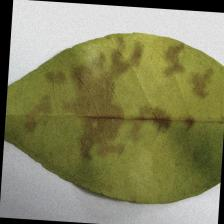black spot: (62, 62, 160, 142)
